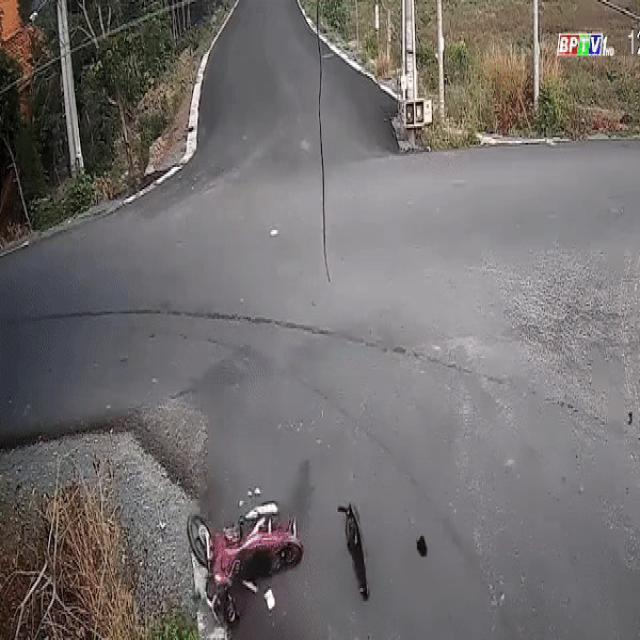single accident: (179, 481, 375, 618)
